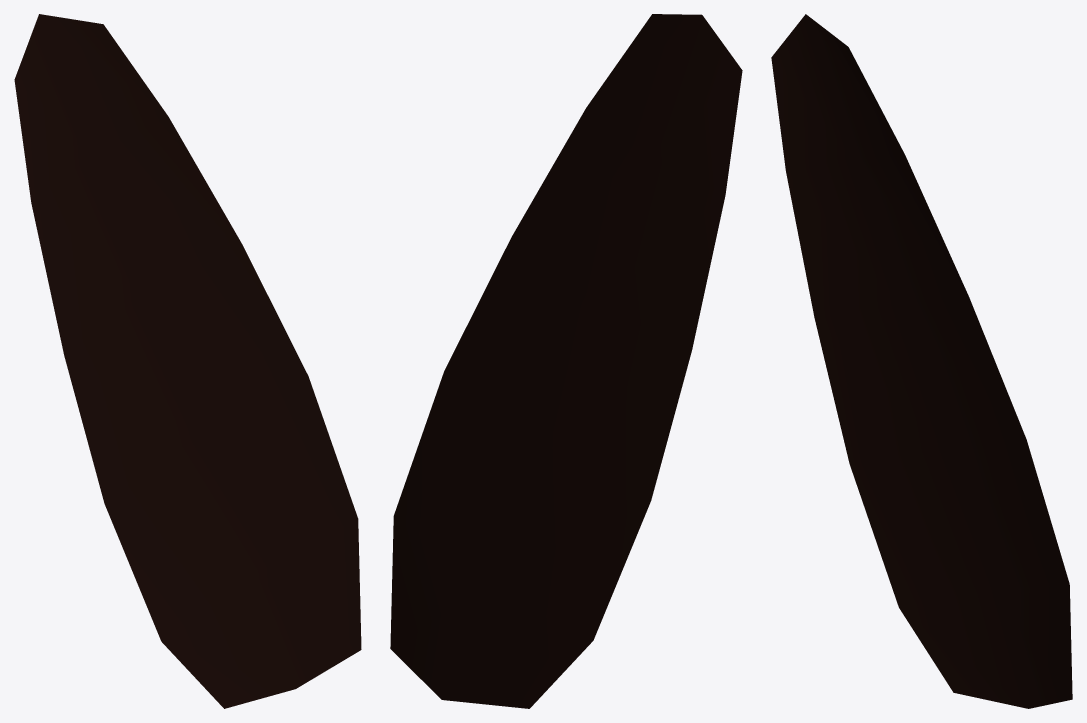
Rendered from finch_feather_flight_secondary_026.obj.
3 views of the same model, side by side, from view 1: azimuth 30°, elevation 25°; view 2: azimuth 150°, elevation 25°; view 3: azimuth 330°, elevation 25° (orthographic). The views are drawn at different scales.
Visible parts, largest first — view 1: feather_flight_secondary_026; view 2: feather_flight_secondary_026; view 3: feather_flight_secondary_026.
Boxes of the visible parts, bbox=[...] form: feather_flight_secondary_026: bbox=[14, 14, 361, 708]; feather_flight_secondary_026: bbox=[390, 14, 742, 708]; feather_flight_secondary_026: bbox=[771, 14, 1072, 708].
Bounding box in the file's own units: 0.00896 × 0.0182 × 0.000337.
